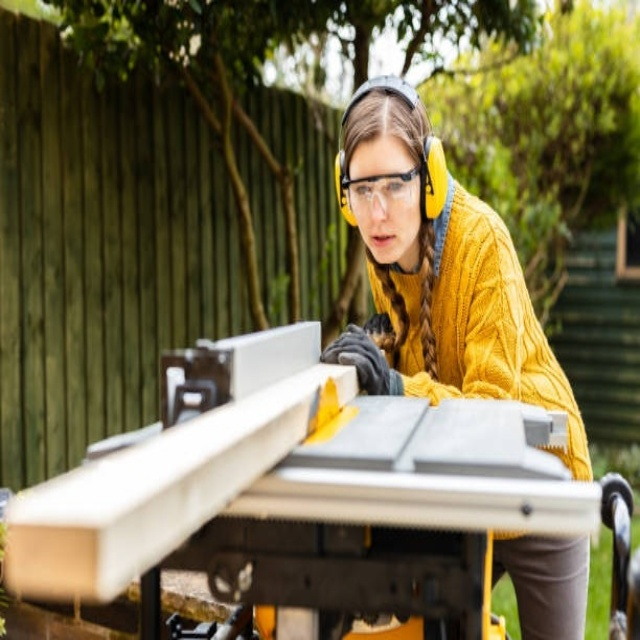Gafas: (344, 165, 419, 215)
Guantes: (320, 325, 395, 395)
Sin_mascara: (362, 224, 405, 259)
